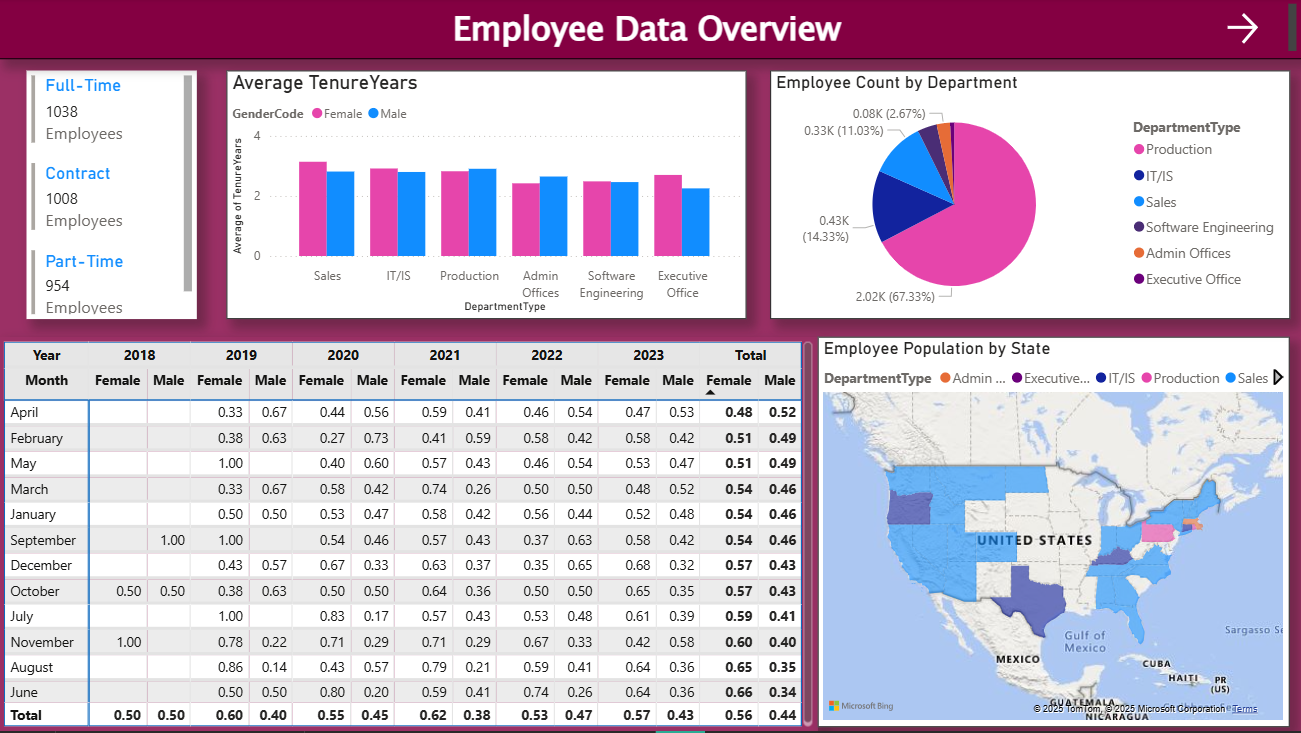

The page's visual inventory and layout, read from the dashboard file:
{"tool":"powerbi","page":{"name":"Summary","canvas":[1280,720],"ordinal":0},"visuals":[{"type":"multiRowCard","fields":{"Values":["CountNonNull(employee_data.EmpID)","employee_data.EmployeeType"]},"box":[27.1,71.4,167.1,244.3],"z":0},{"type":"pivotTable","fields":{"Columns":["employee_data.ExitYear"],"Rows":["employee_data.Month Name"],"Values":["employee_data.Female Ratio","employee_data.Male Ratio"]},"box":[0,332.5,803.8,387.5],"z":1000},{"type":"filledMap","title":"Employee Population by State","fields":{"Category":["employee_data.State"],"Series":["employee_data.DepartmentType"]},"box":[804.3,332.9,462.9,382.9],"z":2000},{"type":"textbox","box":[0,0,1280,60],"z":3000},{"type":"pieChart","title":"Employee Count by Department","fields":{"Category":["employee_data.DepartmentType"],"Y":["CountNonNull(employee_data.EmpID)"]},"box":[757.1,71.4,510,244.3],"z":4000},{"type":"clusteredColumnChart","title":"Average TenureYears ","fields":{"Category":["employee_data.DepartmentType"],"Y":["Avg(employee_data.TenureYears)"],"Series":["employee_data.GenderCode"]},"box":[222.9,71.4,510,244.3],"z":5000},{"type":"actionButton","box":[1200,10,80,40],"z":6000}]}

Visuals, with their boxes in screenshot pixels (x1, y1, x2, y2), scaled from the page's 1280x720 canvas onto the 1301x733 screenshot:
multiRowCard - CountNonNull(employee_data.EmpID) x employee_data.EmployeeType: (28,73,197,321)
pivotTable - employee_data.ExitYear x employee_data.Month Name: (0,339,817,732)
"Employee Population by State" filledMap: (817,339,1288,729)
textbox: (0,0,1300,61)
"Employee Count by Department" pieChart: (770,73,1288,321)
"Average TenureYears " clusteredColumnChart: (227,73,745,321)
actionButton: (1220,10,1300,51)
